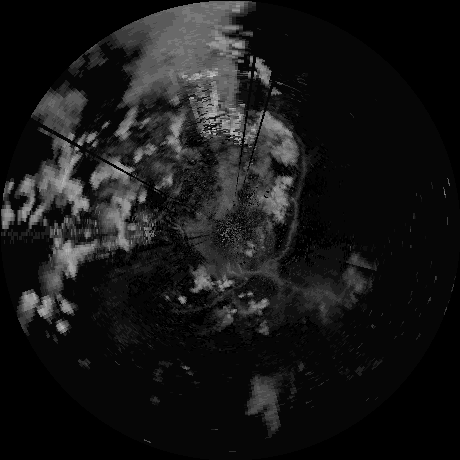frontgust: (248, 202, 297, 277), (168, 283, 244, 312), (296, 132, 307, 199)
